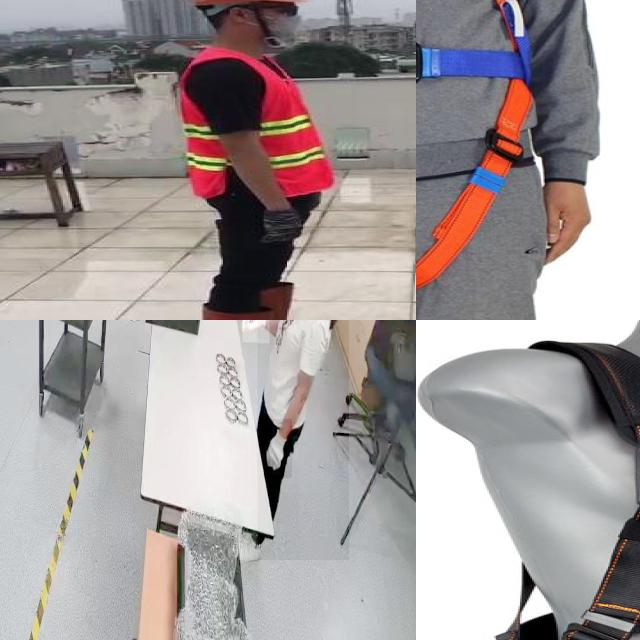Harness: (438, 339, 640, 640), (416, 0, 536, 292)
boots: (235, 279, 334, 320), (190, 298, 324, 320)
face_mask: (253, 1, 305, 42)
hand_glove: (264, 419, 292, 479), (258, 212, 306, 245), (242, 320, 269, 343)
person: (165, 0, 350, 320), (257, 320, 349, 561)
vest: (177, 50, 331, 197)
